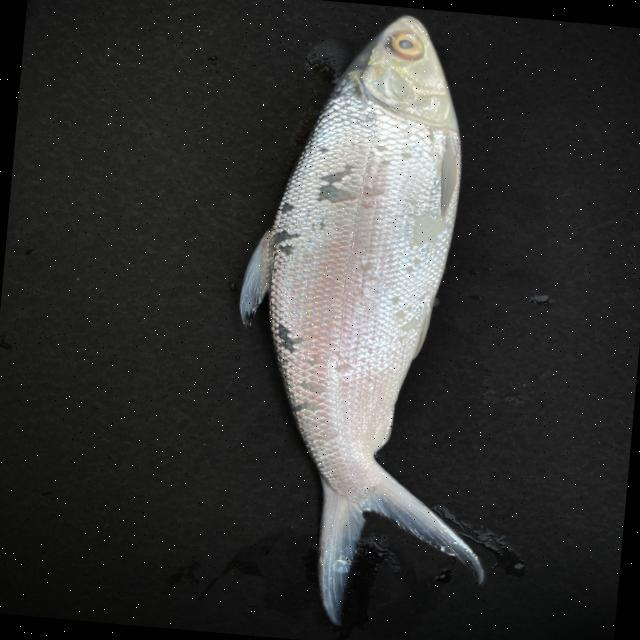790 g: (211, 1, 534, 638)
